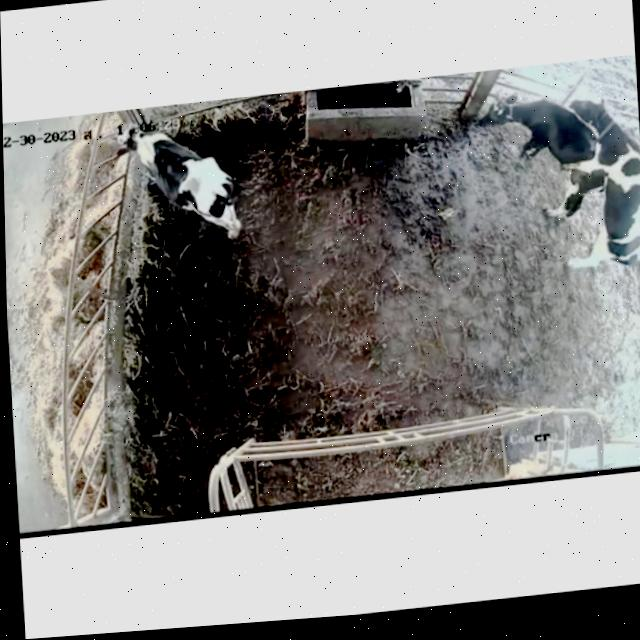eat: (61, 110, 176, 183)
ride: (558, 83, 640, 294)
stand: (467, 78, 603, 234)
